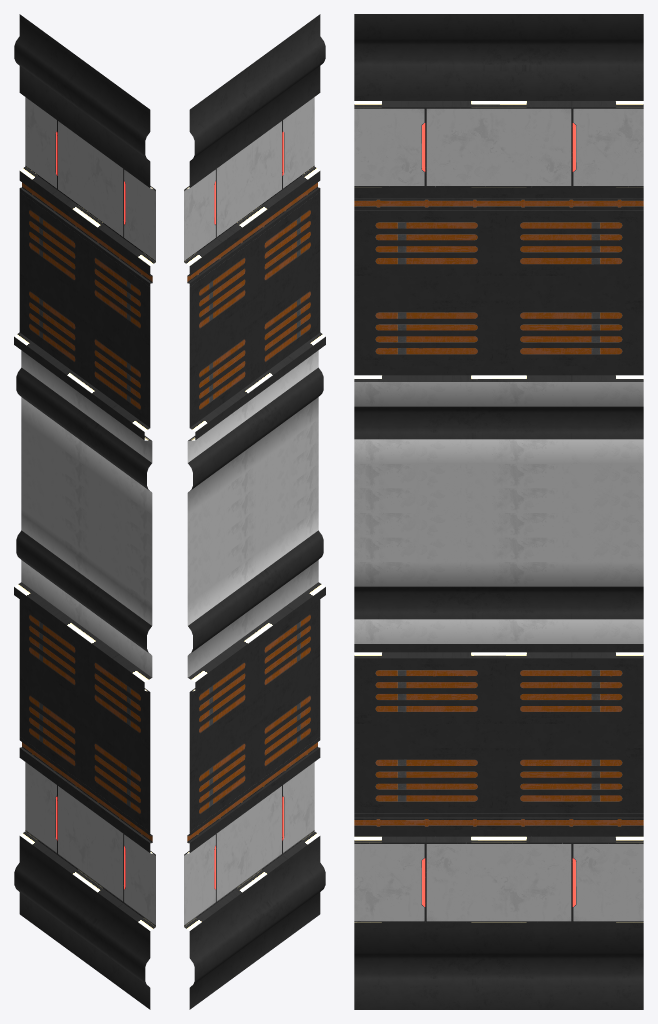
The model's file is SuperLargeWall.fbx.
The picture shows the model from 3 angles, left to right: view 1: azimuth 30°, elevation 25°; view 2: azimuth 150°, elevation 25°; view 3: azimuth 270°, elevation 25°; orthographic projection. The views are drawn at different scales.
Visible parts, largest first — view 1: Wall1.014; view 2: Wall1.014; view 3: Wall1.014.
Part boxes in pixels (x1=…): Wall1.014: x1=14, y1=14, x2=155, y2=1009; Wall1.014: x1=184, y1=14, x2=325, y2=1009; Wall1.014: x1=354, y1=14, x2=643, y2=1009.
Bounding box in the file's own units: 24.87 × 1900 × 500.
